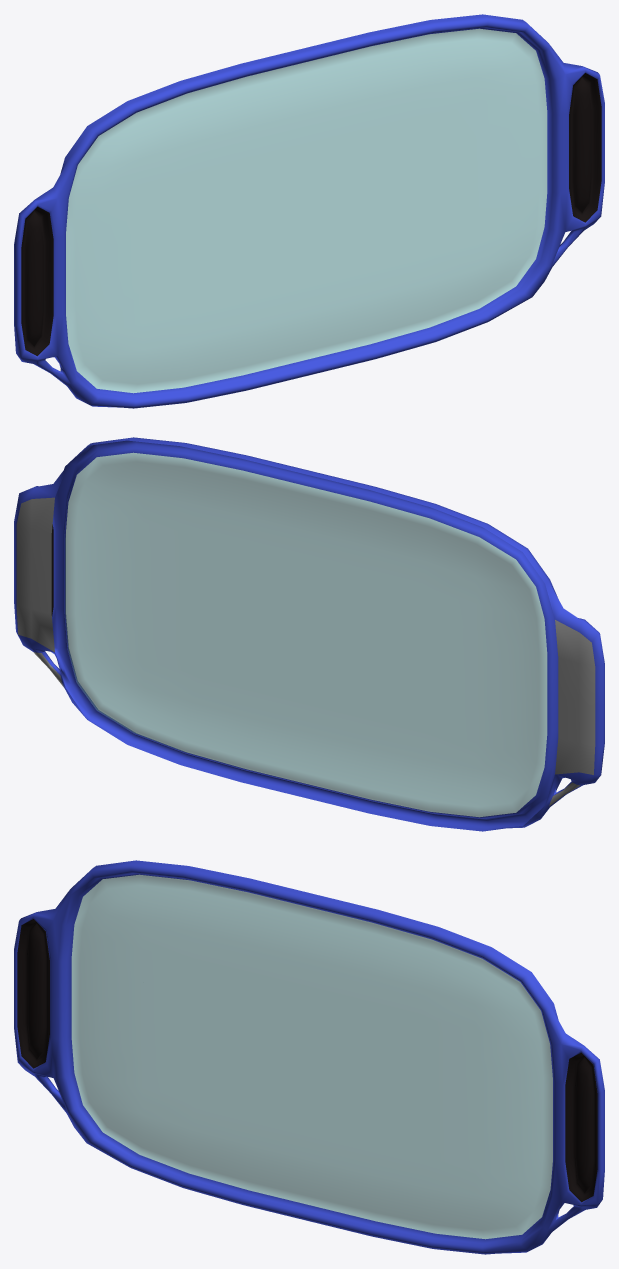
File: scaling_panel.FBX
3 views of the same model, one above another, from view 1: azimuth 30°, elevation 25°; view 2: azimuth 150°, elevation 25°; view 3: azimuth 330°, elevation 25° (orthographic).
Visible parts, largest first — view 1: Plane001; view 2: Plane001; view 3: Plane001.
Boxes of the visible parts, x1,y1,x2,y2 form: Plane001: (14, 14, 604, 408); Plane001: (14, 437, 604, 831); Plane001: (14, 860, 604, 1254).
Size of the model in its own units: 3.36 by 0.0683 by 1.77.
